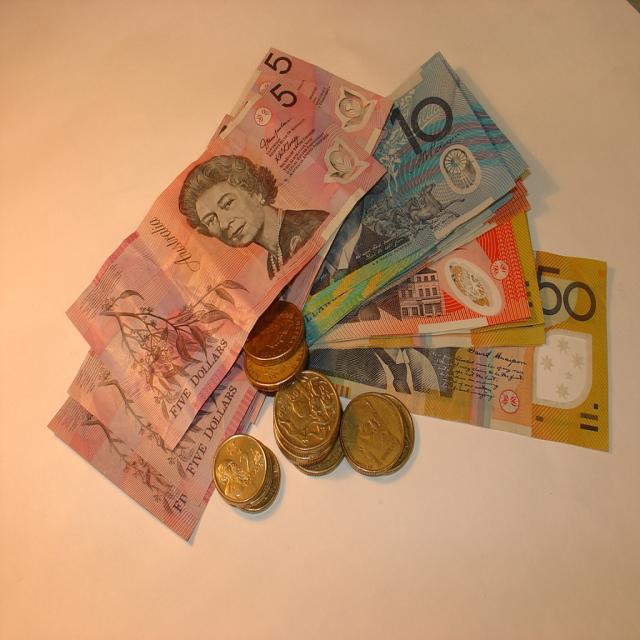Coin: (272, 368, 340, 452), (338, 394, 402, 478), (272, 403, 341, 468), (240, 298, 302, 369), (210, 435, 268, 506), (242, 339, 308, 395), (294, 410, 349, 474), (233, 445, 282, 515), (380, 393, 414, 475), (247, 445, 268, 505)
